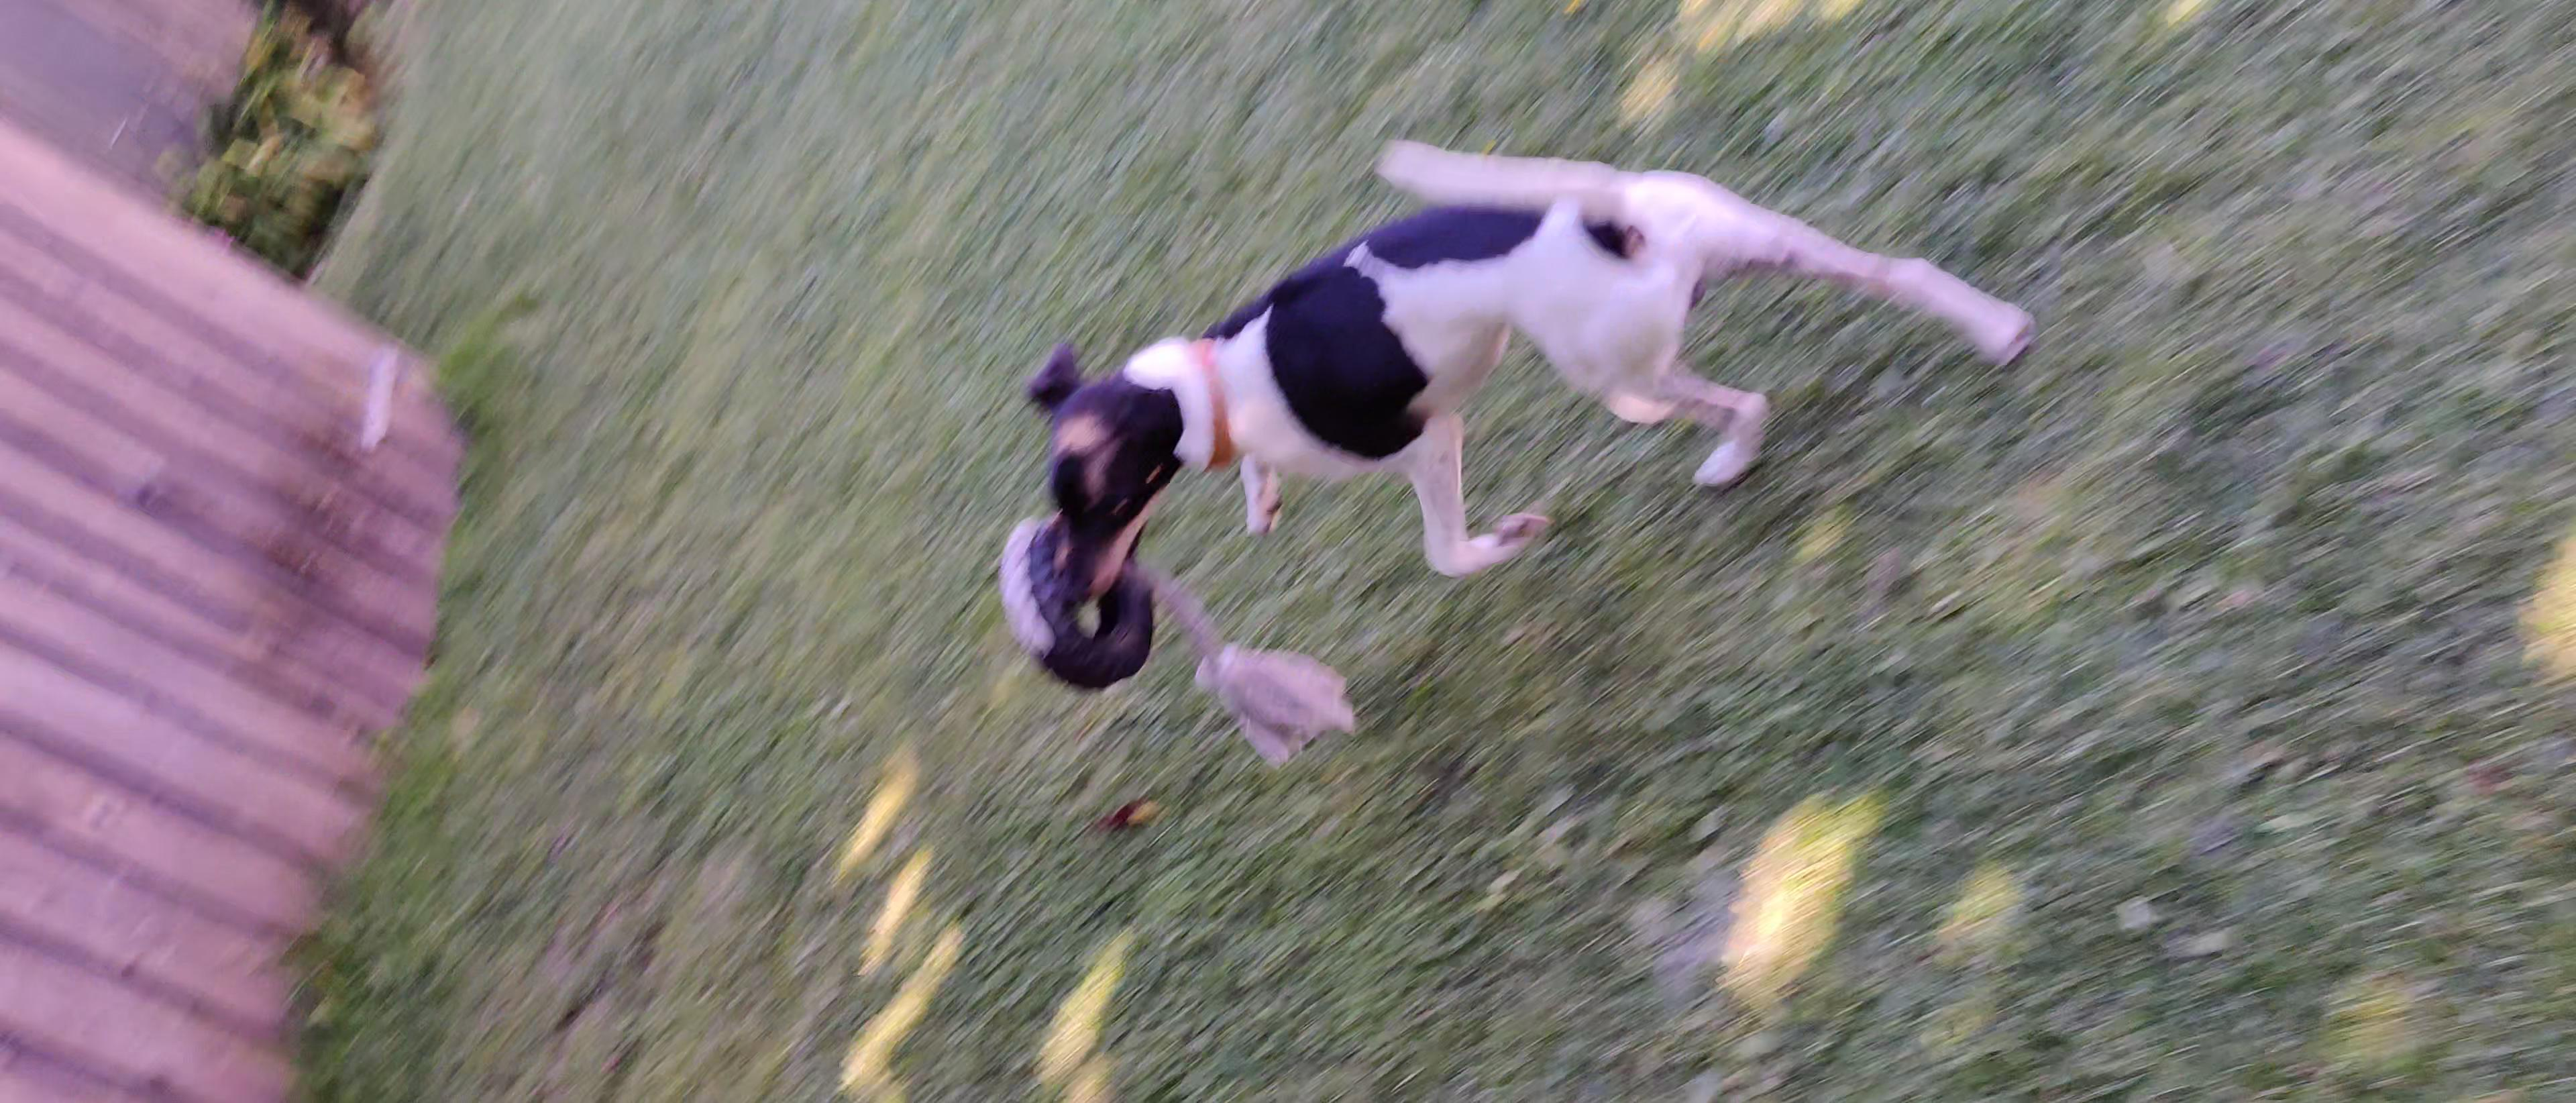Dog: (1012, 120, 2052, 620)
